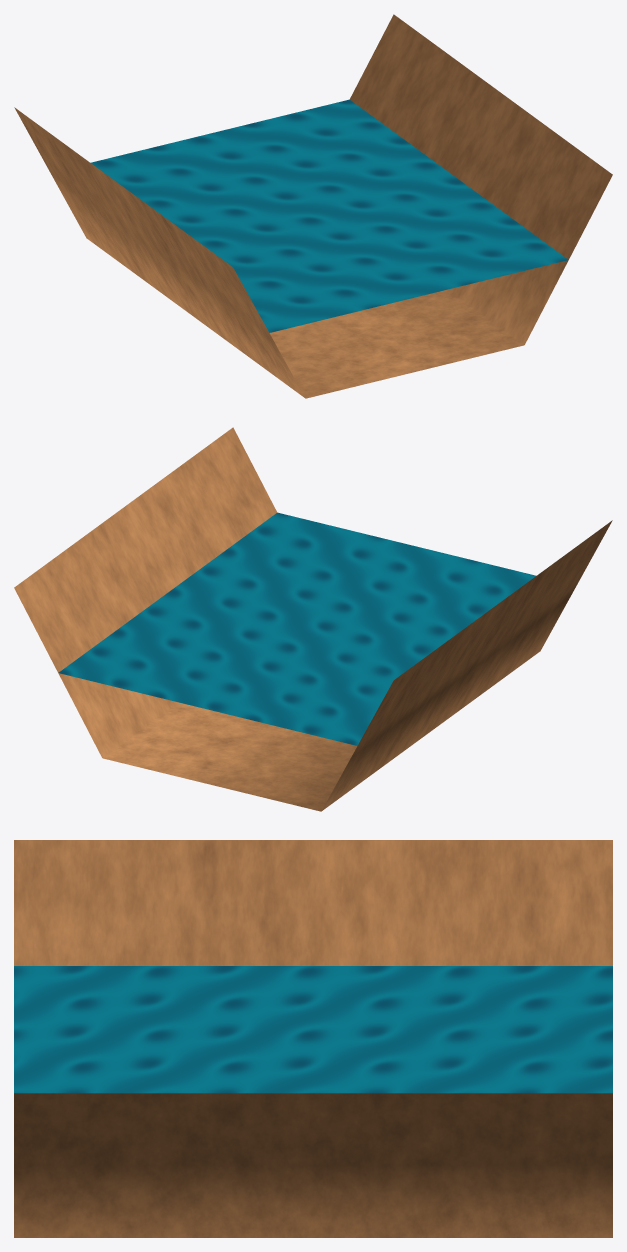
Rendered from moat1.glb.
3 renders of one model, top to bottom at view 1: azimuth 30°, elevation 25°; view 2: azimuth 150°, elevation 25°; view 3: azimuth 270°, elevation 25°, orthographic. The views are drawn at different scales.
Parts seen in each view (by area): view 1: ground; view 2: ground; view 3: ground.
Part boxes in pixels (x1,y1,x2,y2): ground: (14, 14, 612, 398); ground: (14, 427, 612, 811); ground: (14, 840, 612, 1237).
Size of the model in its own units: 2 by 0.75 by 2.
2 materials, 2 textured.
